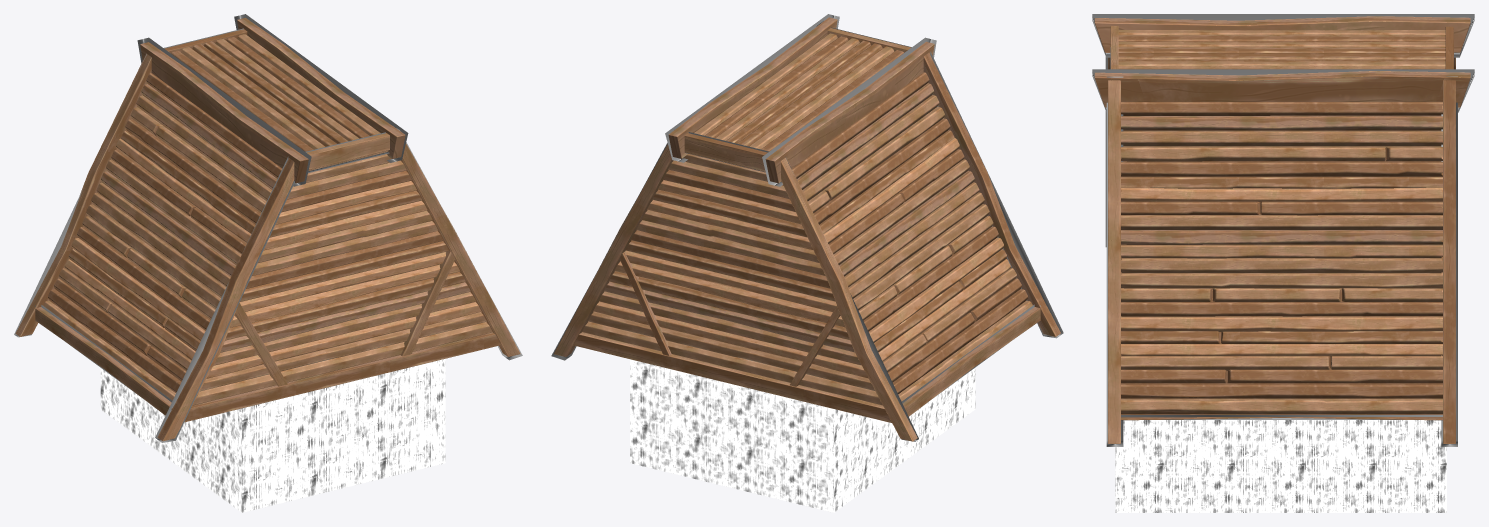
File: SM_BuildingBase_02.gltf
3 views of the same model, side by side, from view 1: azimuth 30°, elevation 25°; view 2: azimuth 150°, elevation 25°; view 3: azimuth 270°, elevation 25° (orthographic). The views are drawn at different scales.
Visible parts, largest first — view 1: SM_BuildingBase_02_LOD0, SM_BuildingBase_02_ConvexHulls; view 2: SM_BuildingBase_02_LOD0, SM_BuildingBase_02_ConvexHulls; view 3: SM_BuildingBase_02_LOD0, SM_BuildingBase_02_ConvexHulls.
Part boxes in pixels (bbox=[...]): SM_BuildingBase_02_LOD0: bbox=[15, 18, 520, 512]; SM_BuildingBase_02_ConvexHulls: bbox=[14, 14, 522, 442]; SM_BuildingBase_02_LOD0: bbox=[554, 17, 1060, 512]; SM_BuildingBase_02_ConvexHulls: bbox=[551, 14, 1063, 441]; SM_BuildingBase_02_LOD0: bbox=[1094, 16, 1470, 512]; SM_BuildingBase_02_ConvexHulls: bbox=[1092, 14, 1474, 446].
Size of what is drawn, in the model's own units: 17.74 by 16.37 by 13.84.
4 materials, 3 textured.
